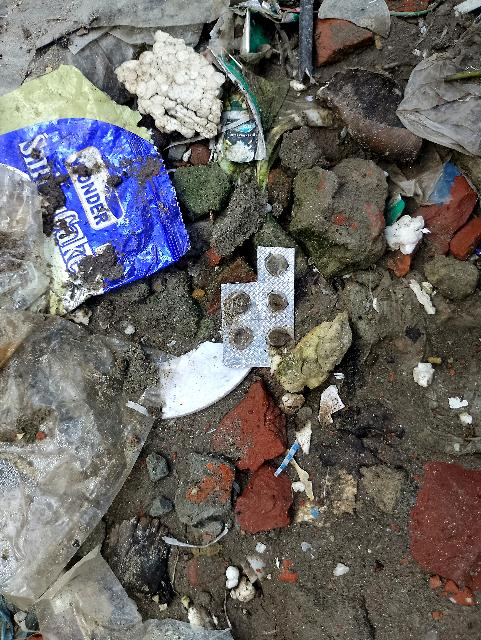medicine: (223, 246, 301, 373)
